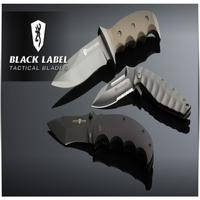knife: (47, 8, 164, 95), (37, 108, 158, 164), (84, 70, 195, 111)
